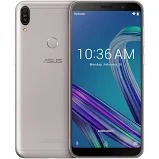asus: (14, 1, 77, 158)
